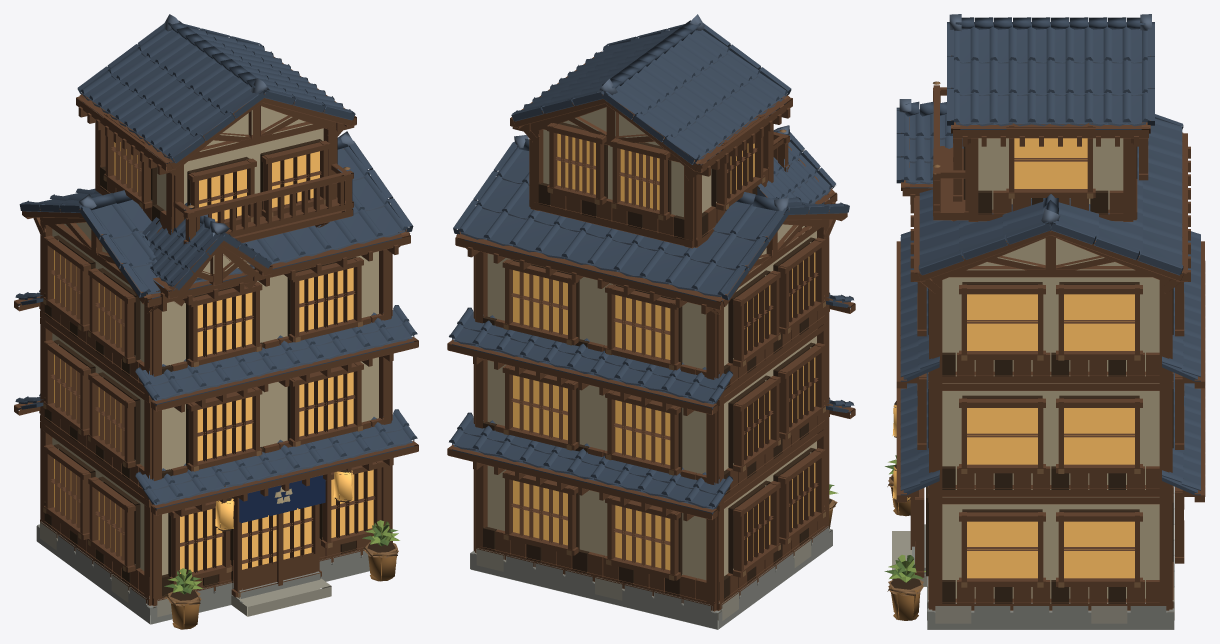
The picture shows the model from 3 angles, left to right: view 1: azimuth 30°, elevation 25°; view 2: azimuth 150°, elevation 25°; view 3: azimuth 270°, elevation 25°; orthographic projection. The views are drawn at different scales.
Parts seen in each view (by area): view 1: compact_villa_3_geometry, compact_villa_3_geometry ceramic; view 2: compact_villa_3_geometry, compact_villa_3_geometry ceramic; view 3: compact_villa_3_geometry, compact_villa_3_geometry ceramic.
Boxes of the visible parts, x1,y1,x2,y2 form: compact_villa_3_geometry: [14, 51, 418, 629]; compact_villa_3_geometry ceramic: [15, 14, 417, 510]; compact_villa_3_geometry: [447, 51, 855, 629]; compact_villa_3_geometry ceramic: [449, 14, 854, 514]; compact_villa_3_geometry: [884, 55, 1205, 629]; compact_villa_3_geometry ceramic: [896, 14, 1200, 495].
Size of the model in its own units: 0.99 by 1.75 by 0.9283.
